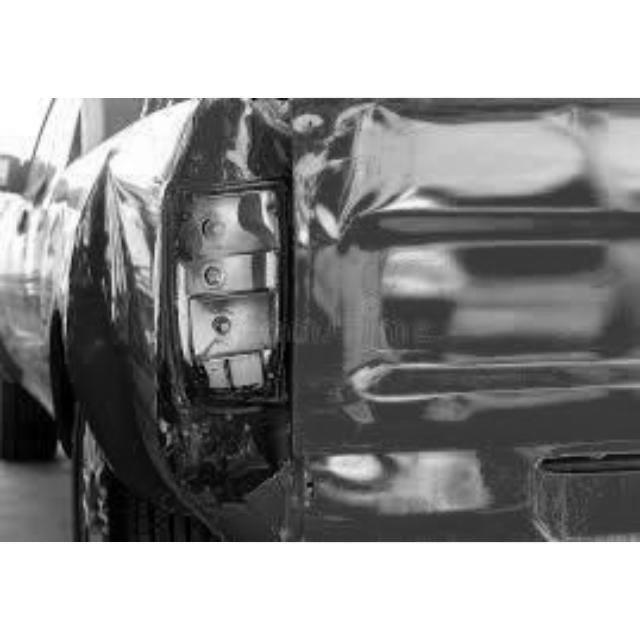Taillight-Damage: (148, 149, 305, 486)
